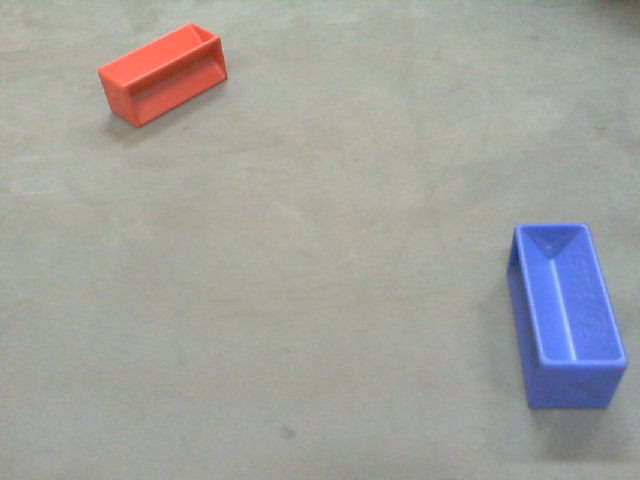BlueSample: (506, 222, 629, 418)
RedSample: (93, 20, 229, 129)
